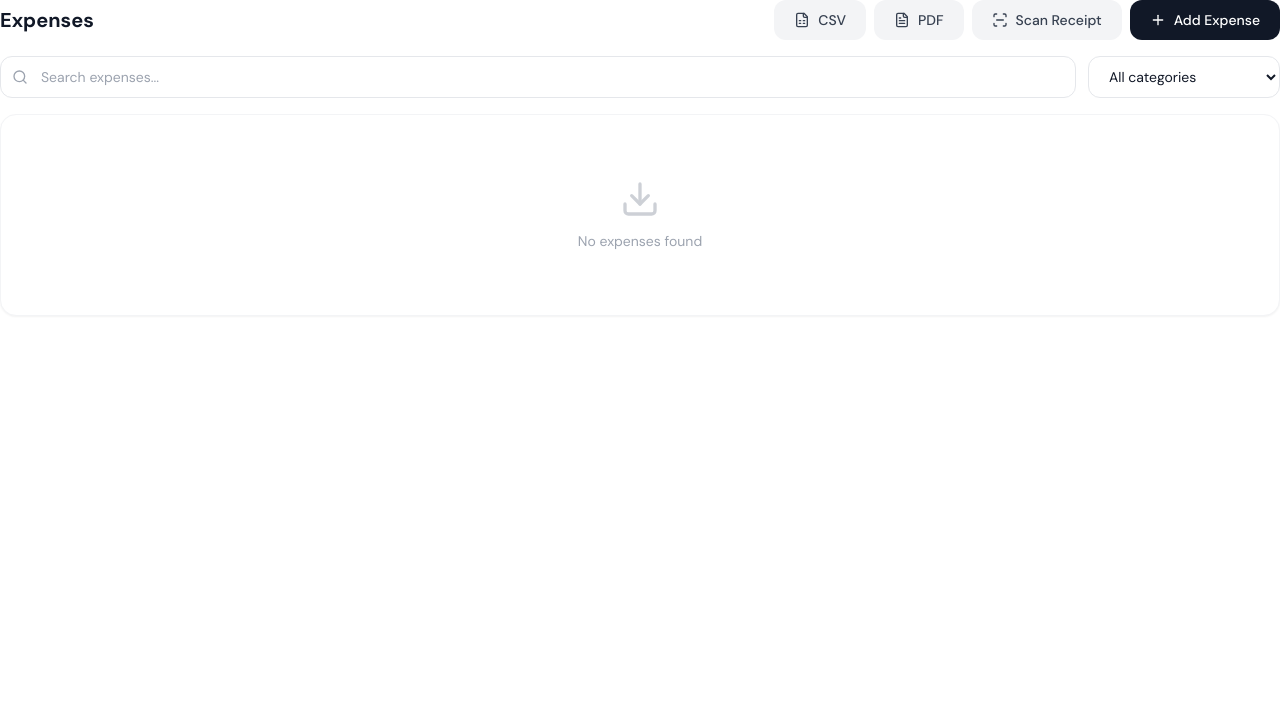
Test: ExpenseForm — add expense modal › opens the modal when "Add Expense" is clicked
Click the button "Add Expense" at (1205, 20), box [1130, 0, 1279, 40]
(page scrolled)
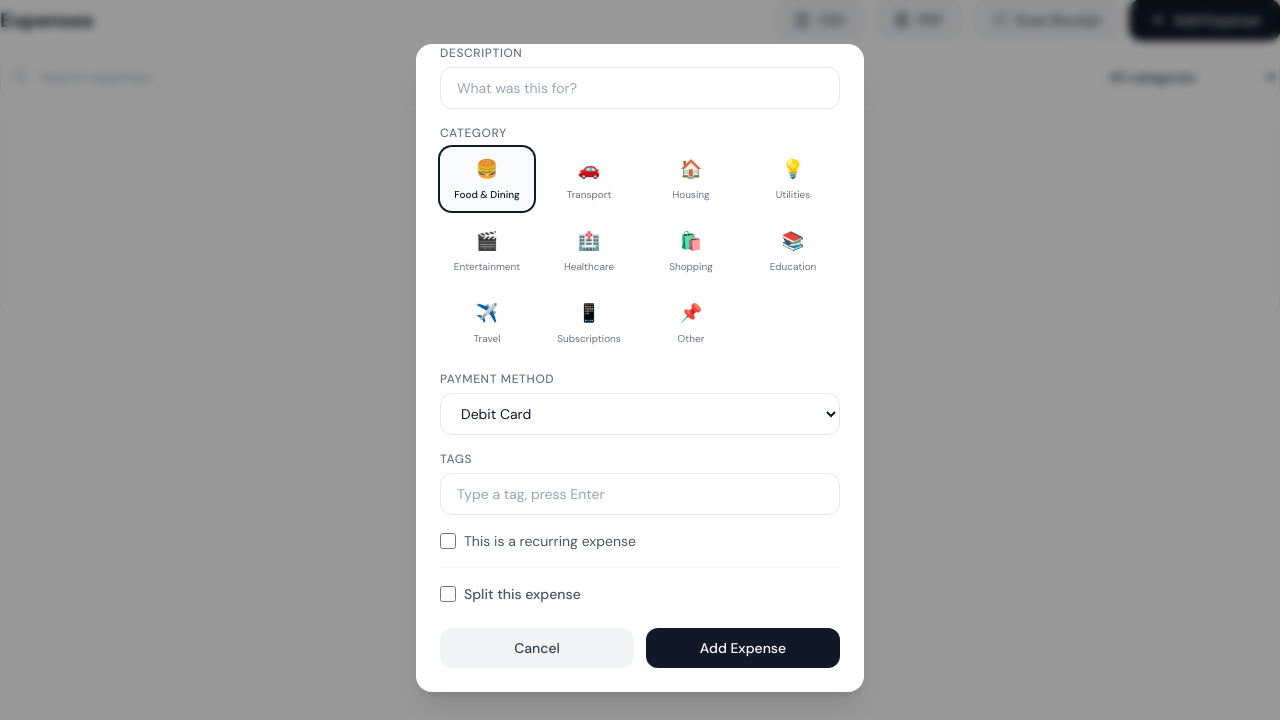
Now the button "Cancel" is shown, box [440, 628, 634, 668]
